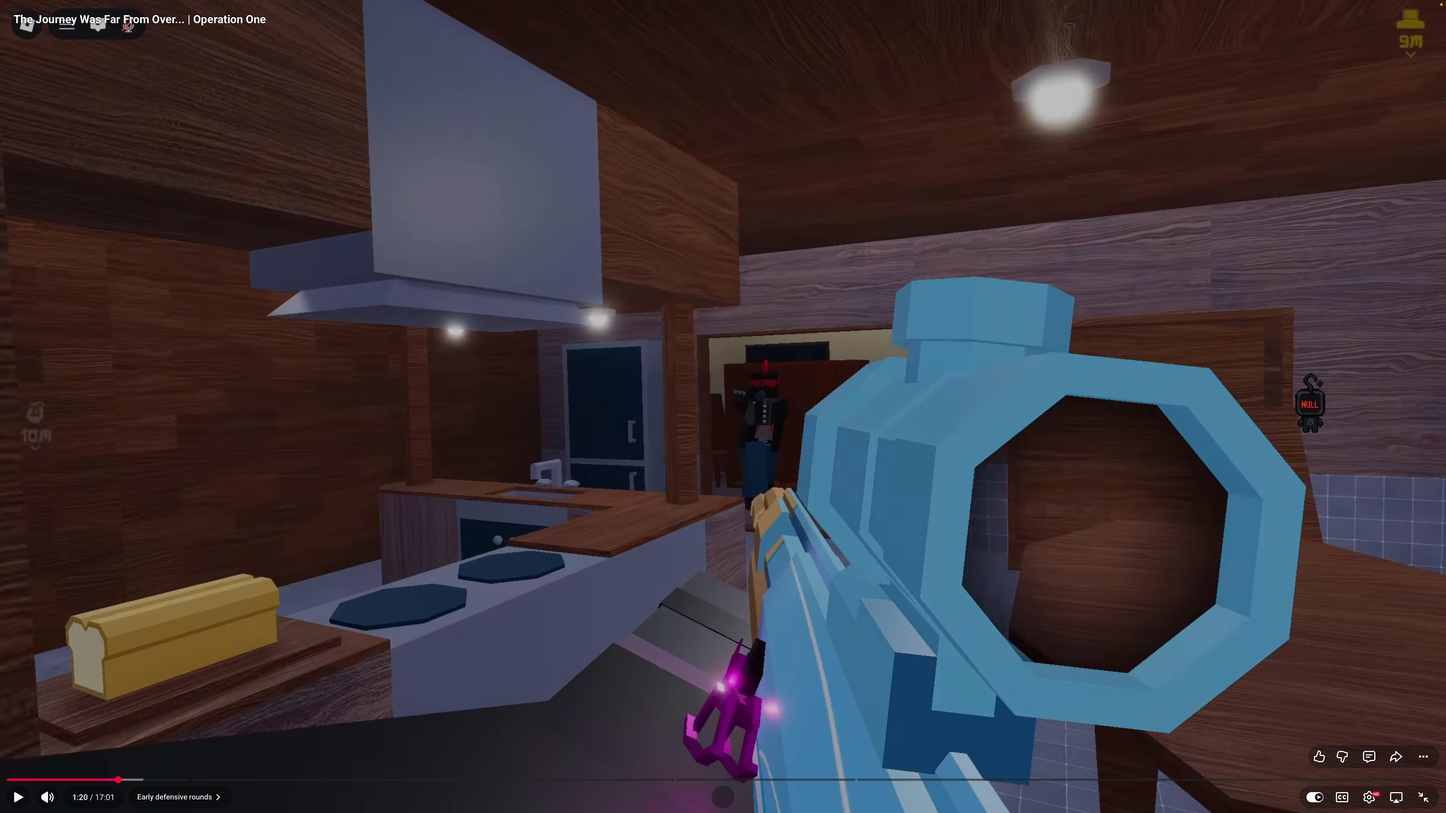enemy: (727, 355, 793, 517)
